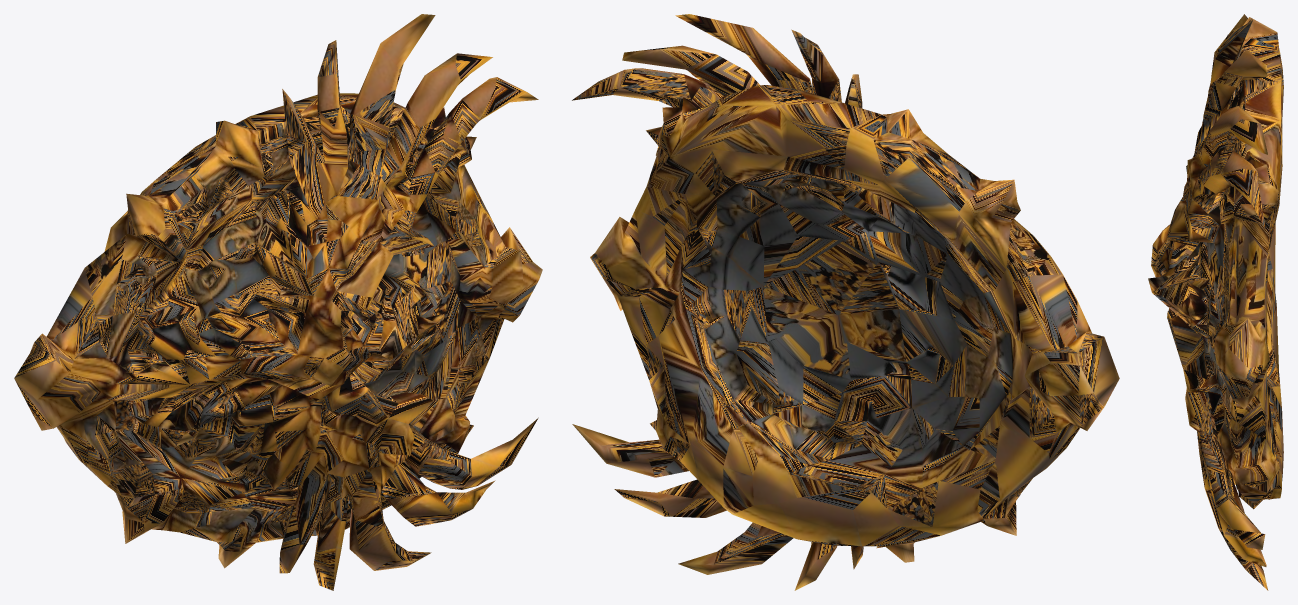
File: 1739_shield.glb
3 views of the same model, side by side, from view 1: azimuth 30°, elevation 25°; view 2: azimuth 150°, elevation 25°; view 3: azimuth 270°, elevation 25° (orthographic). The views are drawn at different scales.
Visible parts, largest first — view 1: Model; view 2: Model; view 3: Model.
Boxes of the visible parts, left/top/right/bottom form: Model: left=14, top=14, right=542, bottom=590; Model: left=572, top=14, right=1119, bottom=590; Model: left=1148, top=14, right=1283, bottom=590.
Bounding box in the file's own units: 0.9887 × 1 × 0.233.
Materials: 1 (1 with a texture image).
